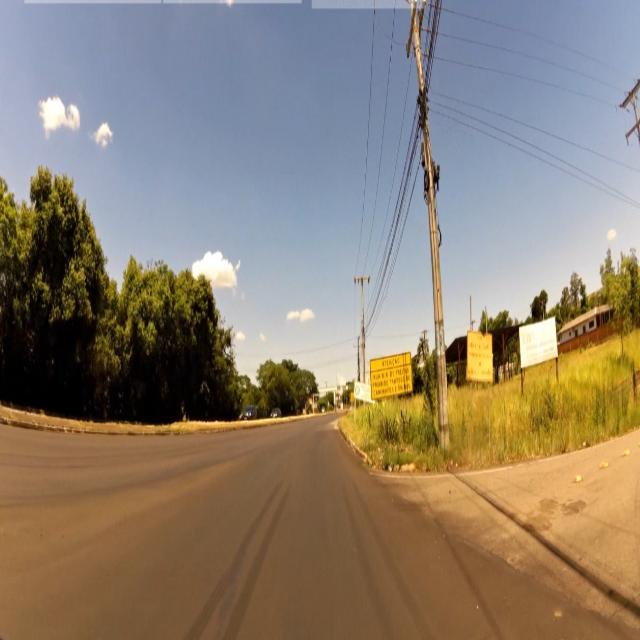ESP-20: (370, 352, 414, 399)
